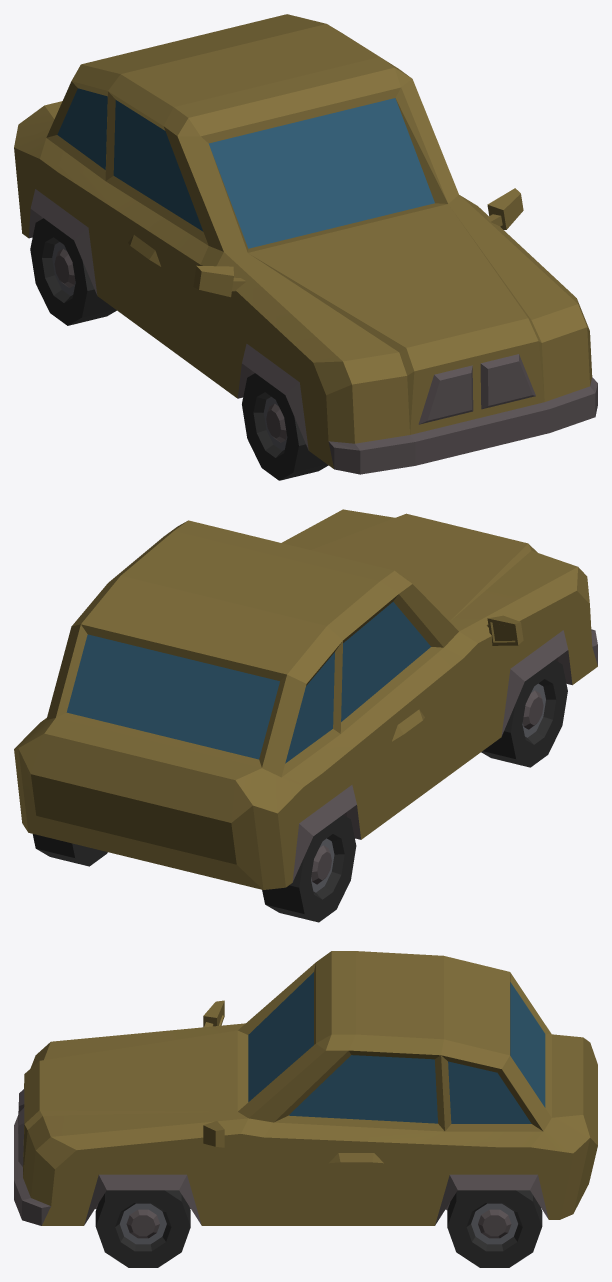
File: LP_VehicleI.fbx
The picture shows the model from 3 angles, top to bottom: view 1: azimuth 30°, elevation 25°; view 2: azimuth 150°, elevation 25°; view 3: azimuth 270°, elevation 25°; orthographic projection. The views are drawn at different scales.
Visible parts, largest first — view 1: VehicleI; view 2: VehicleI; view 3: VehicleI.
Boxes of the visible parts, x1,y1,x2,y2 form: VehicleI: [14, 14, 597, 480]; VehicleI: [14, 509, 597, 922]; VehicleI: [14, 951, 597, 1267].
Bounding box in the file's own units: 179 × 140 × 336.
